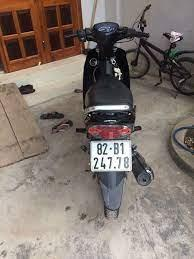numplate: (88, 138, 132, 171)
